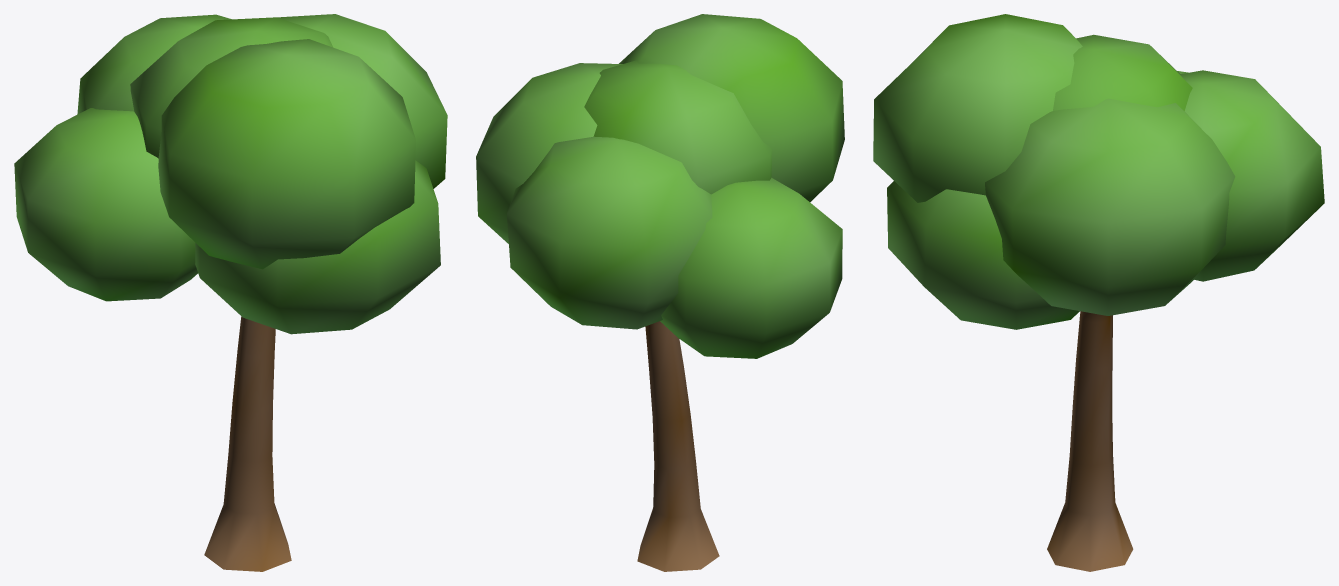
The model's file is world_tree_broad_a.fbx.
3 views of the same model, side by side, from view 1: azimuth 30°, elevation 25°; view 2: azimuth 150°, elevation 25°; view 3: azimuth 270°, elevation 25° (orthographic). The views are drawn at different scales.
Visible parts, largest first — view 1: world_tree_broad_a; view 2: world_tree_broad_a; view 3: world_tree_broad_a.
Part boxes in pixels (x1=…): world_tree_broad_a: x1=14, y1=14, x2=447, y2=571; world_tree_broad_a: x1=476, y1=14, x2=844, y2=571; world_tree_broad_a: x1=873, y1=14, x2=1324, y2=571.
Bounding box in the file's own units: 914 × 1210 × 952.
